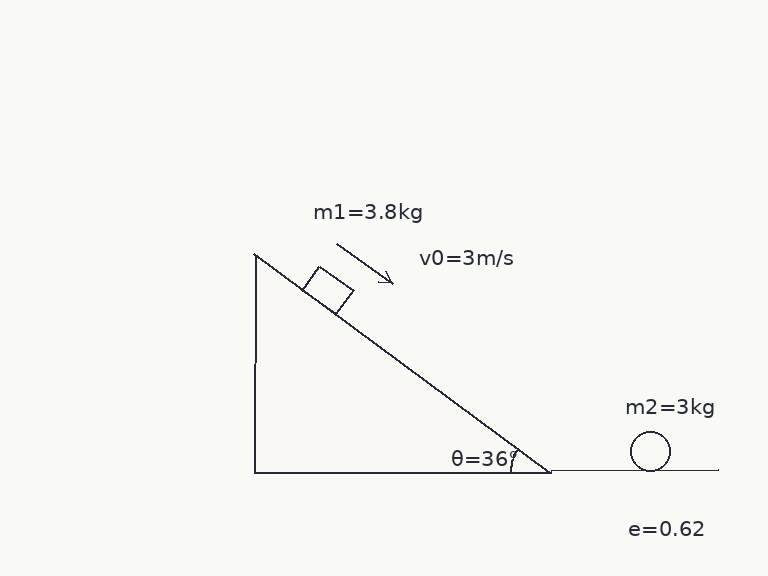ball: (628, 429, 672, 473)
block: (300, 263, 356, 317)
ramp: (252, 253, 553, 473)
